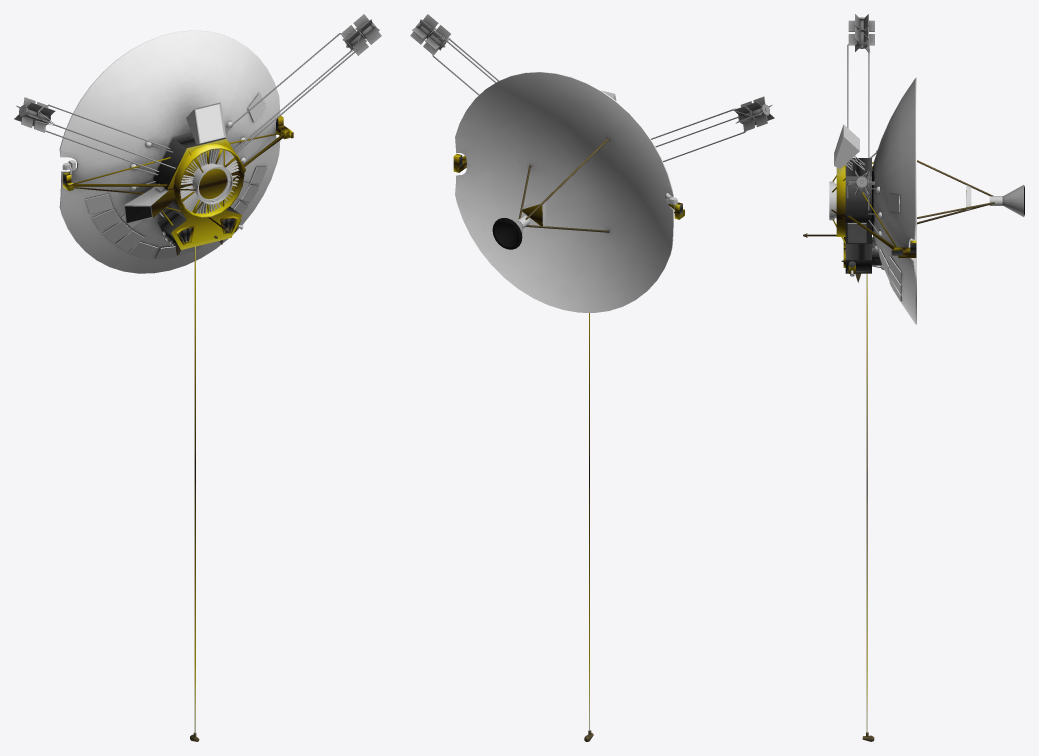
Rendered from space-pioneer-10.glb.
The picture shows the model from 3 angles, left to right: view 1: azimuth 30°, elevation 25°; view 2: azimuth 150°, elevation 25°; view 3: azimuth 270°, elevation 25°; orthographic projection. The views are drawn at different scales.
Parts seen in each view (by area): view 1: AO_dish, Foil_gold, Norm_silver, Tex_02, Foil_silver, AO_rtg, Foil_trans; view 2: AO_dish, AO_rtg, Tex_02, Foil_gold, Tex_black; view 3: AO_dish, Foil_silver, Foil_gold, Norm_silver, Tex_02, AO_rtg, Tex_01.
Boxes of the visible parts, x1,y1,x2,y2 form: AO_dish: [59, 30, 280, 273]; Foil_gold: [63, 116, 293, 733]; Norm_silver: [62, 93, 267, 259]; Tex_02: [34, 32, 360, 741]; Foil_silver: [63, 118, 278, 249]; AO_rtg: [14, 14, 381, 132]; Foil_trans: [196, 104, 223, 141]; AO_dish: [455, 72, 673, 312]; AO_rtg: [410, 14, 774, 131]; Tex_02: [428, 30, 755, 741]; Foil_gold: [453, 154, 684, 730]; Tex_black: [492, 218, 522, 249]; AO_dish: [872, 77, 1023, 324]; Foil_silver: [845, 158, 916, 273]; Foil_gold: [807, 162, 966, 732]; Norm_silver: [829, 124, 1002, 301]; Tex_02: [803, 30, 994, 741]; AO_rtg: [848, 14, 874, 195]; Tex_01: [847, 223, 866, 242].
Bounding box in the file's own units: 4.52 × 8.25 × 2.54.
Materials: 10 (8 with a texture image).
